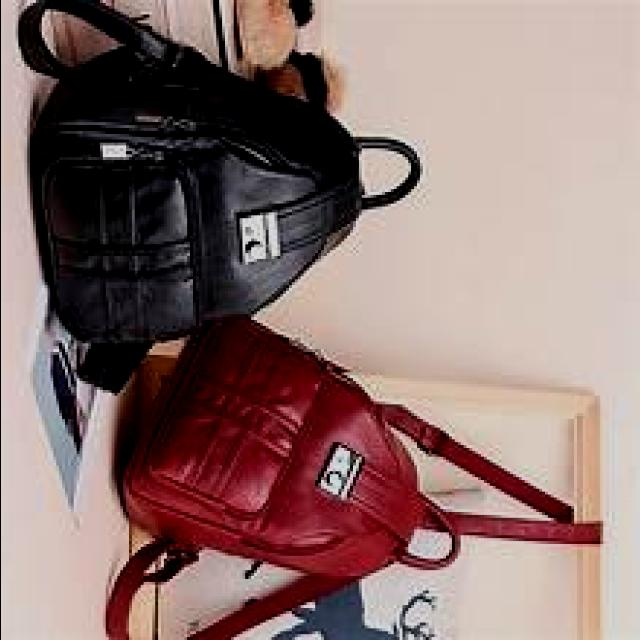backpack: (106, 312, 606, 638), (18, 2, 426, 394)
